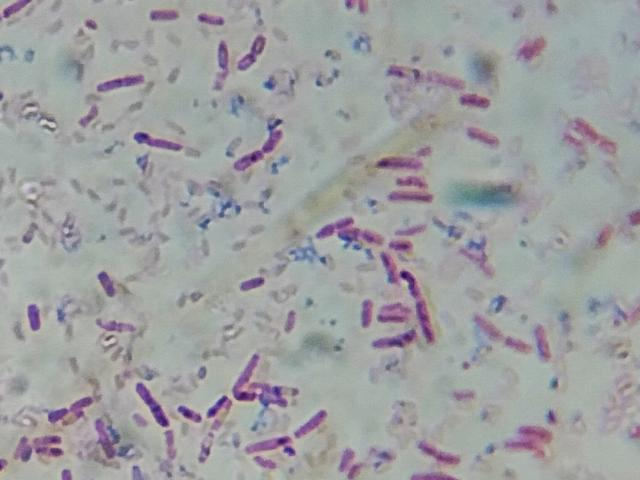E. coli: (391, 62, 471, 85), (139, 131, 186, 158), (137, 382, 163, 427), (296, 407, 332, 439), (570, 122, 611, 150), (416, 441, 460, 466), (374, 326, 415, 351), (467, 123, 504, 150), (149, 3, 184, 30), (97, 71, 142, 92), (237, 389, 286, 408), (406, 464, 463, 480), (380, 248, 400, 293), (234, 351, 263, 382), (374, 150, 418, 170), (417, 296, 436, 342), (246, 432, 291, 451), (98, 315, 138, 336), (387, 187, 427, 207), (250, 379, 294, 396), (99, 269, 122, 301), (519, 32, 545, 58), (94, 418, 112, 455), (534, 323, 551, 361), (508, 442, 551, 457), (265, 124, 287, 153), (400, 266, 422, 295), (518, 422, 553, 440), (28, 303, 47, 336), (240, 144, 264, 169), (208, 394, 228, 423), (473, 311, 496, 336), (251, 30, 271, 58), (394, 172, 429, 188), (506, 332, 531, 354), (198, 8, 230, 25), (358, 296, 373, 330), (343, 229, 376, 244), (320, 217, 349, 234), (460, 89, 489, 106), (337, 447, 355, 473), (215, 36, 230, 67), (600, 220, 615, 250), (163, 428, 177, 460), (241, 274, 263, 294), (3, 0, 30, 16), (395, 224, 428, 237), (17, 434, 32, 461), (281, 311, 297, 336), (33, 431, 57, 447), (176, 405, 196, 424), (202, 430, 215, 458), (72, 397, 94, 412), (241, 50, 254, 75), (383, 302, 401, 320), (254, 454, 274, 470), (34, 445, 62, 456), (78, 106, 94, 125), (389, 236, 410, 250), (58, 460, 71, 480), (129, 461, 142, 480), (63, 412, 85, 423), (630, 203, 640, 226), (51, 405, 63, 424), (349, 463, 360, 480), (0, 451, 8, 472)
